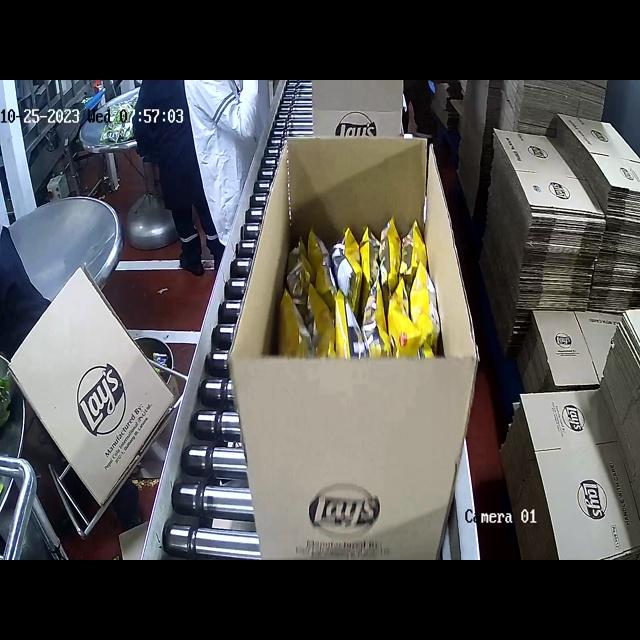salted: (284, 205, 441, 340)
